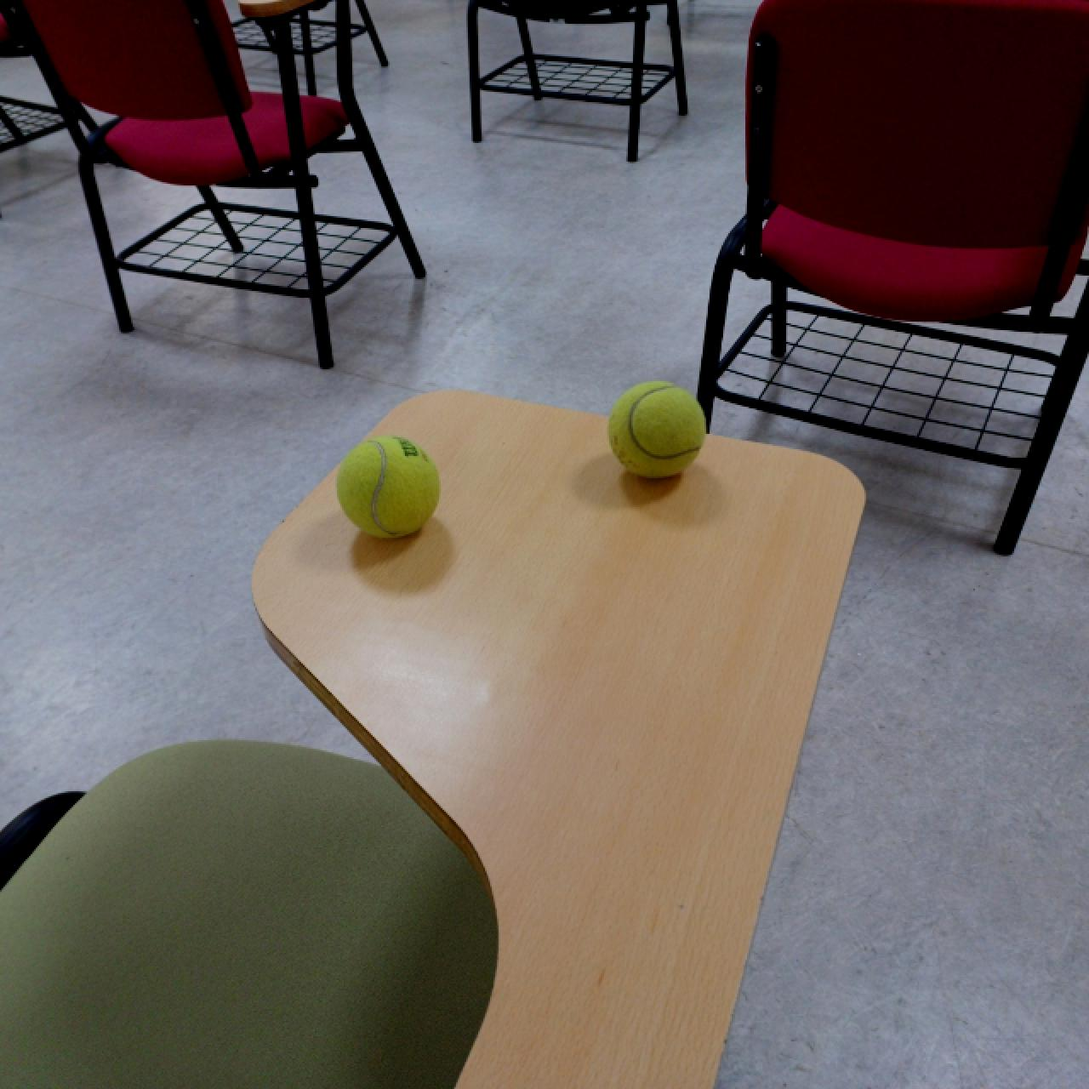tennis-ball: (339, 433, 441, 541), (607, 379, 708, 485)
